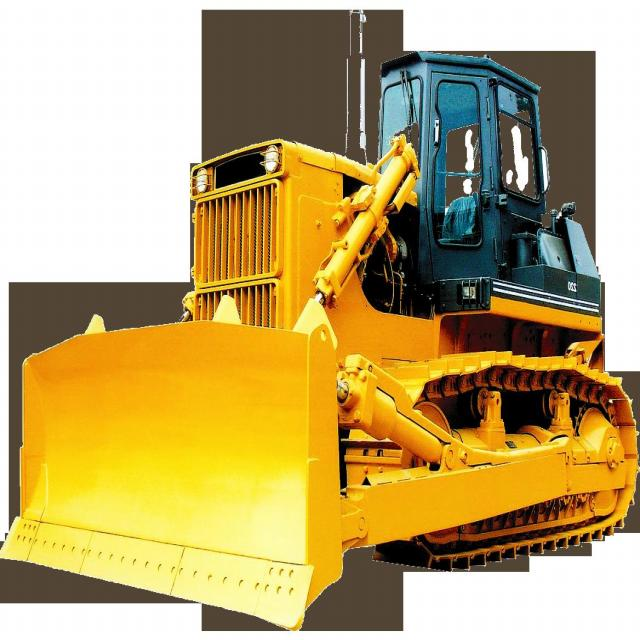Bulldozer: (15, 45, 637, 625)
